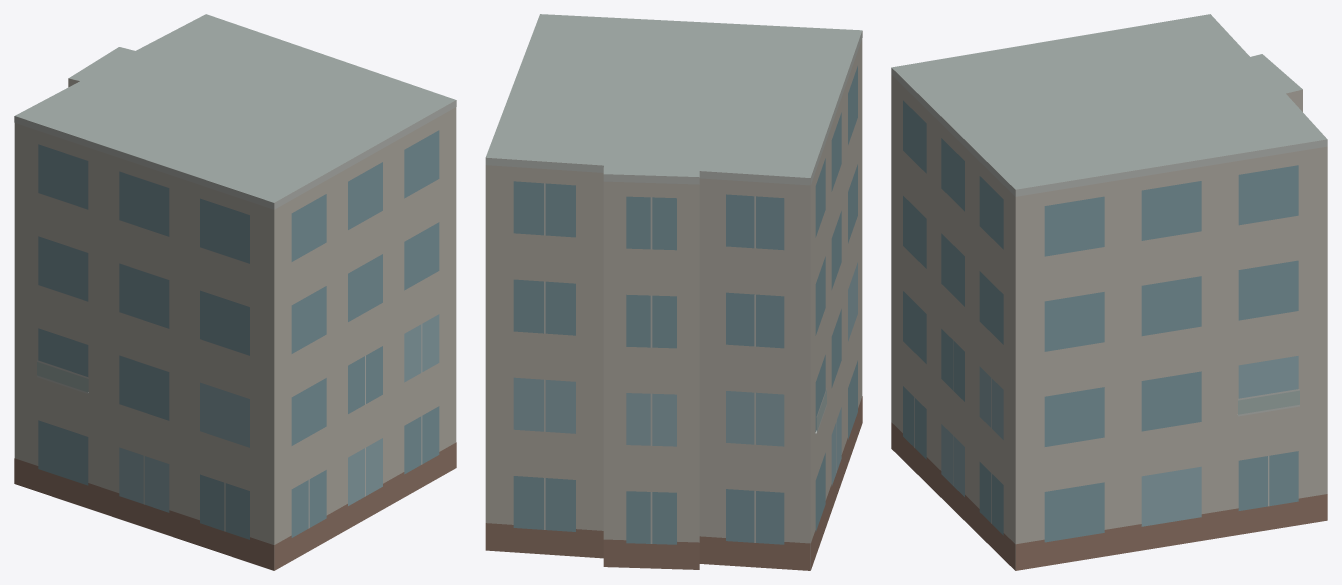
File: survey-upis-33021466.glb
The picture shows the model from 3 angles, left to right: view 1: azimuth 30°, elevation 25°; view 2: azimuth 150°, elevation 25°; view 3: azimuth 270°, elevation 25°; orthographic projection. The views are drawn at different scales.
Visible parts, largest first — view 1: survey-upis-33021466.tmp; view 2: survey-upis-33021466.tmp; view 3: survey-upis-33021466.tmp.
Boxes of the visible parts, x1=… form: survey-upis-33021466.tmp: x1=14, y1=14, x2=456, y2=570; survey-upis-33021466.tmp: x1=485, y1=14, x2=862, y2=570; survey-upis-33021466.tmp: x1=891, y1=14, x2=1327, y2=570.
Bounding box in the file's own units: 12.86 × 13 × 13.5.
